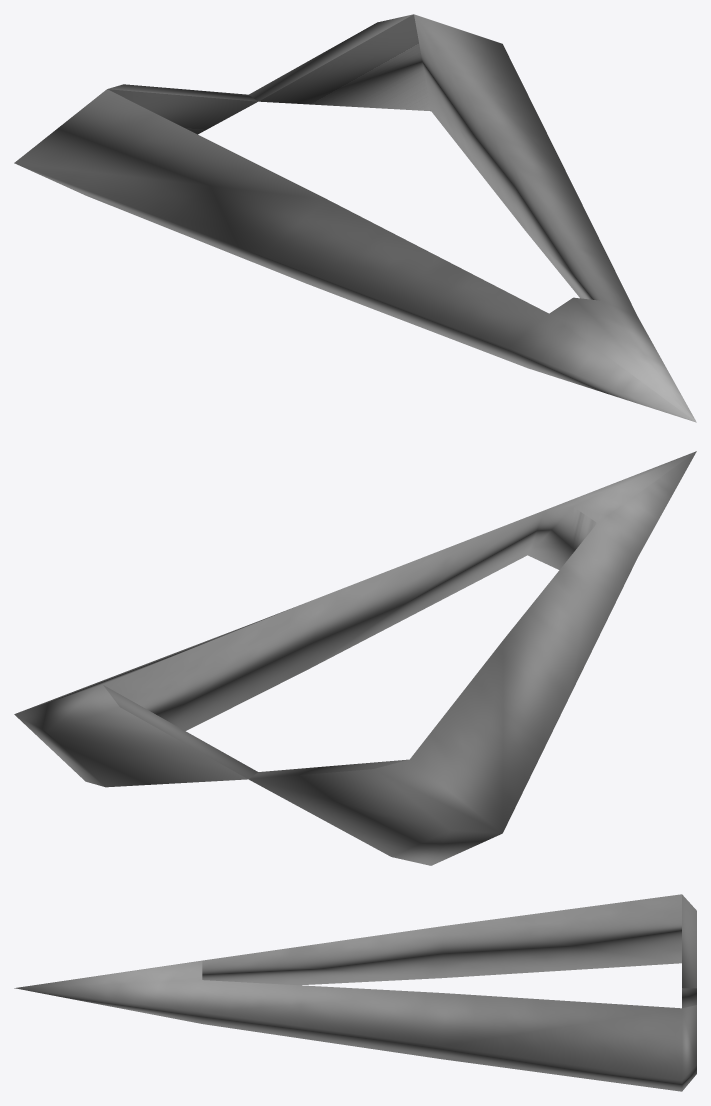
The model's file is Arrow_Projectile_Triangle.gltf.
The picture shows the model from 3 angles, top to bottom: view 1: azimuth 30°, elevation 25°; view 2: azimuth 150°, elevation 25°; view 3: azimuth 270°, elevation 25°; orthographic projection. The views are drawn at different scales.
Visible parts, largest first — view 1: WP_EnemyArcher_Projectile_Triangle; view 2: WP_EnemyArcher_Projectile_Triangle; view 3: WP_EnemyArcher_Projectile_Triangle.
Boxes of the visible parts, x1,y1,x2,y2 form: WP_EnemyArcher_Projectile_Triangle: (14,14,696,422); WP_EnemyArcher_Projectile_Triangle: (14,451,696,865); WP_EnemyArcher_Projectile_Triangle: (14,894,696,1091).
Size of the model in its own units: 0.07 by 0.0138 by 0.1112.
Materials: 1 (1 with a texture image).
